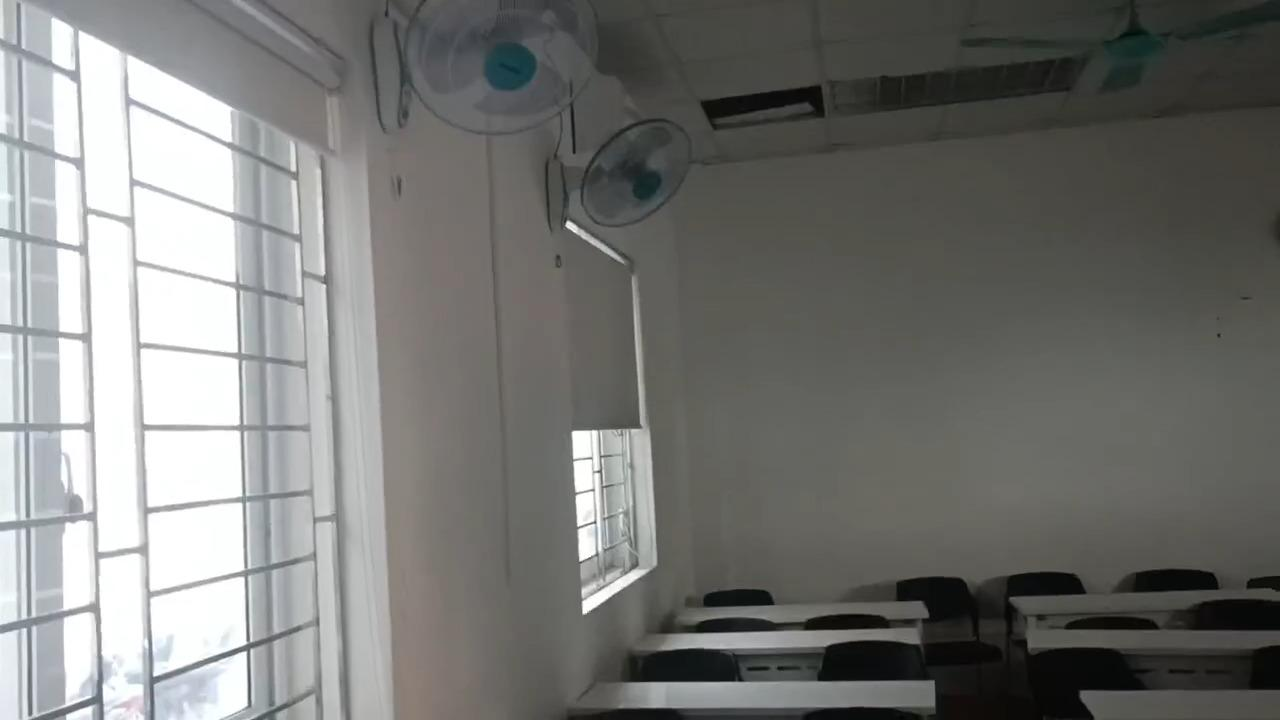chair: (893, 578, 1002, 676), (1024, 645, 1151, 718), (632, 645, 741, 685), (823, 644, 926, 684), (1172, 602, 1279, 629), (1003, 574, 1082, 599), (1138, 569, 1221, 592), (705, 588, 771, 610), (1068, 616, 1157, 630), (701, 616, 772, 632), (808, 614, 887, 628), (1255, 647, 1279, 690), (1245, 574, 1279, 590)
fan: (365, 0, 601, 138), (547, 119, 687, 234)
table: (570, 679, 934, 710), (630, 623, 921, 650), (1031, 626, 1279, 656), (1007, 587, 1279, 614), (673, 599, 926, 623), (1077, 691, 1279, 719)
